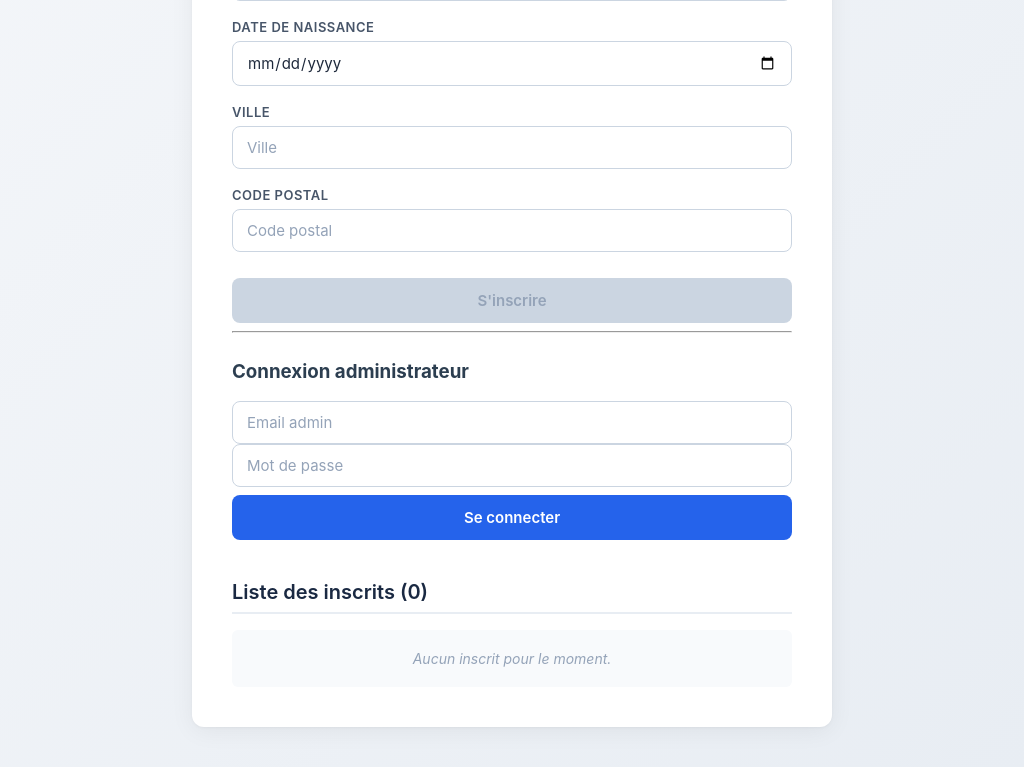
Espace administrateur › connexion échouée : affiche une erreur
(page scrolled)
Click the button with test id "login-btn": coordinates (512, 518) [232,495,792,540]
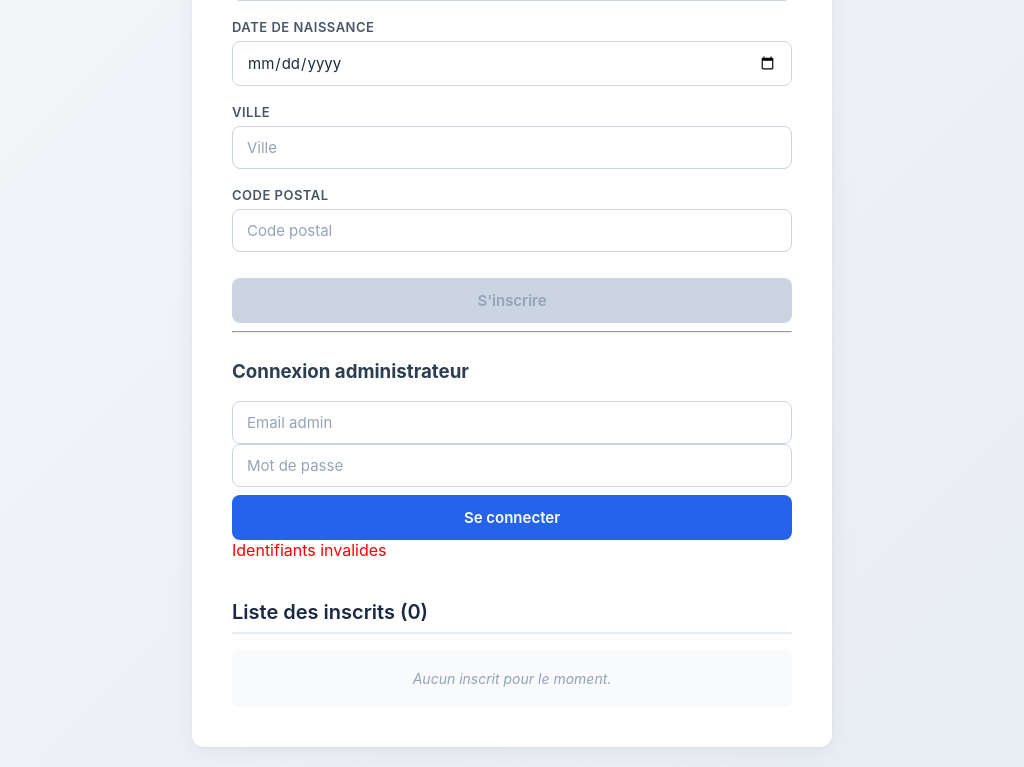
Check: the text "Identifiants invalides" is shown, box [232,540,387,560]
